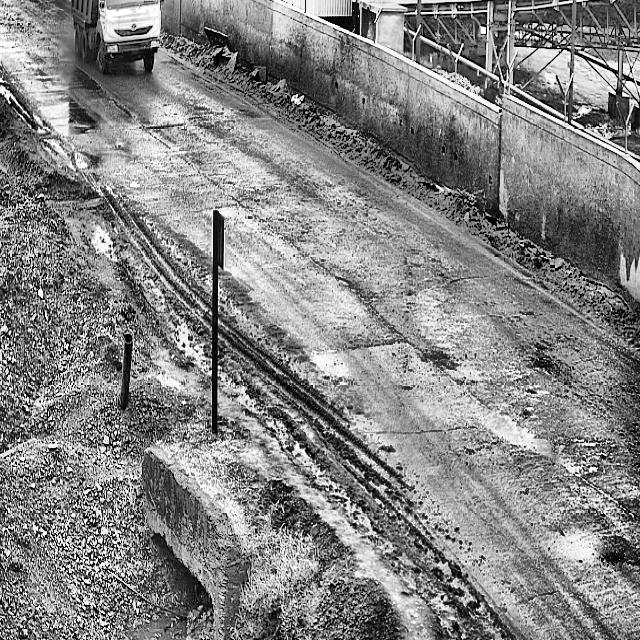dump_truck: (65, 0, 161, 70)
